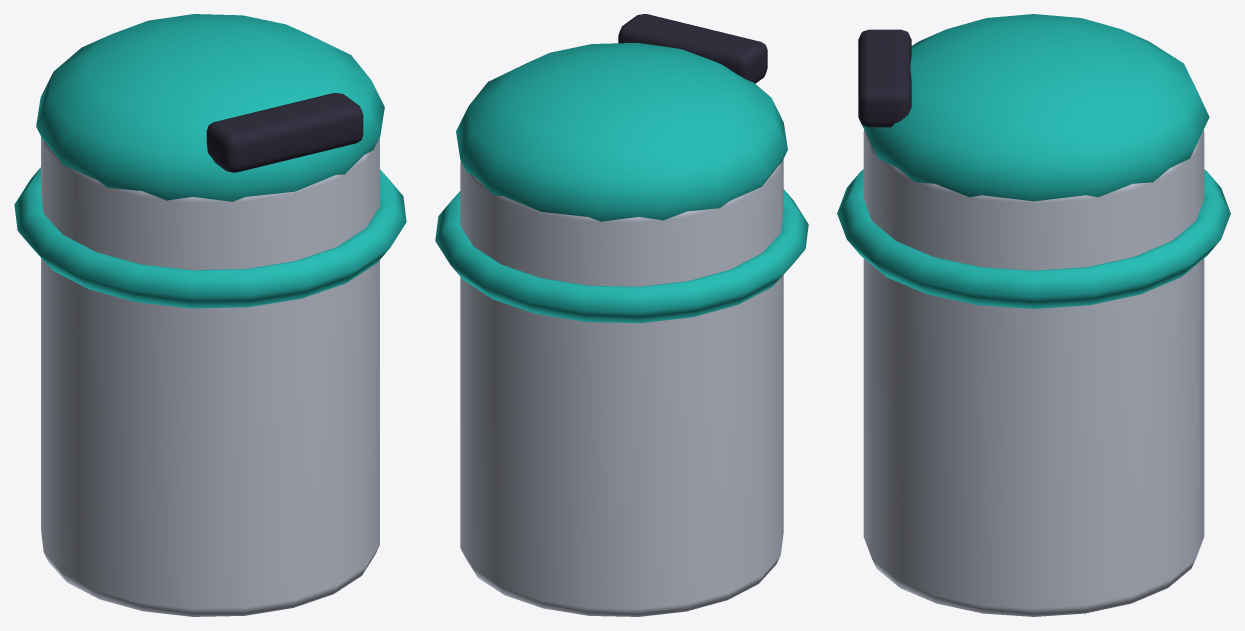
Rendered from mall_bin.glb.
3 views of the same model, side by side, from view 1: azimuth 30°, elevation 25°; view 2: azimuth 150°, elevation 25°; view 3: azimuth 270°, elevation 25° (orthographic). The views are drawn at different scales.
Visible parts, largest first — view 1: Bin; view 2: Bin; view 3: Bin.
Boxes of the visible parts, x1,y1,x2,y2 form: Bin: [14, 14, 406, 616]; Bin: [435, 14, 808, 616]; Bin: [837, 14, 1230, 616].
Size of the model in its own units: 0.74 by 1.05 by 0.74.
